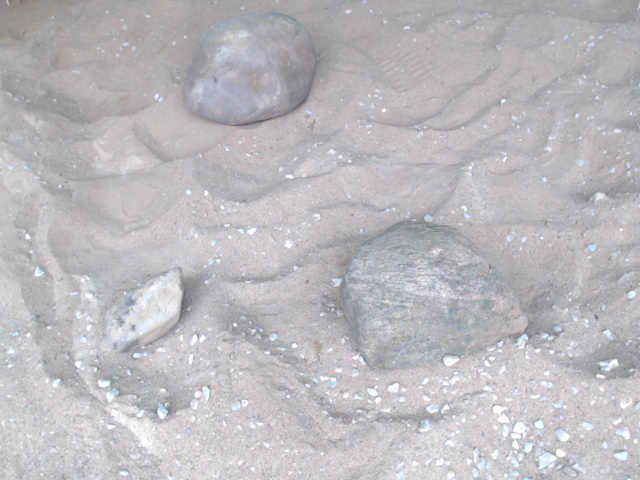rock: (334, 213, 533, 380), (178, 7, 321, 133), (94, 263, 190, 359)
